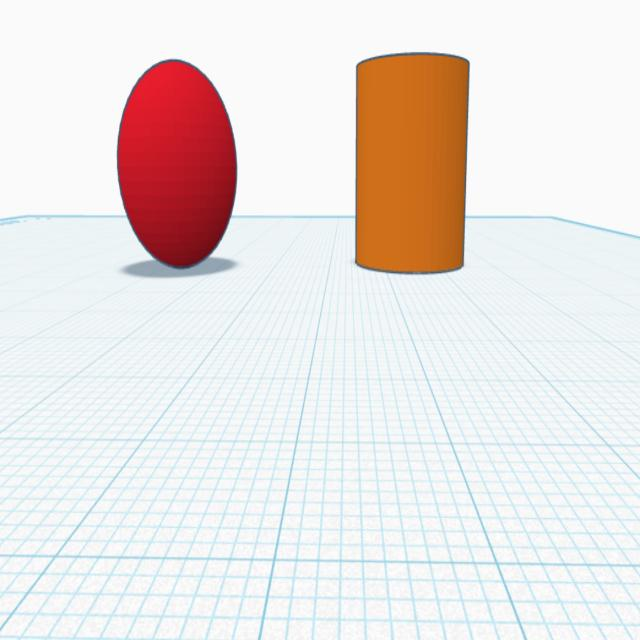sphere: (113, 54, 241, 275)
